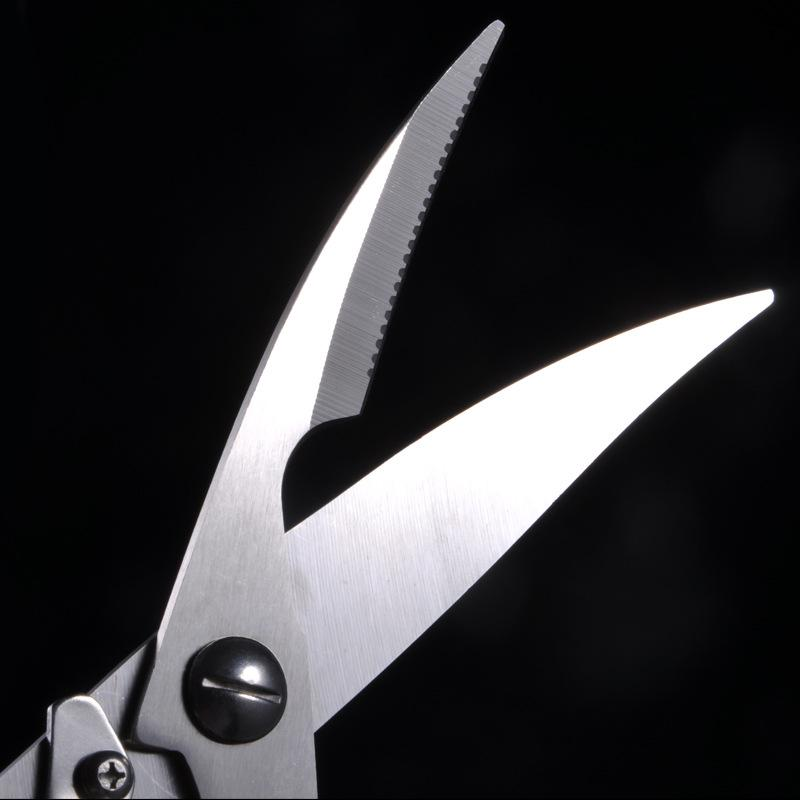scissor: (75, 49, 800, 765)
